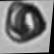correct: (2, 1, 50, 46)
